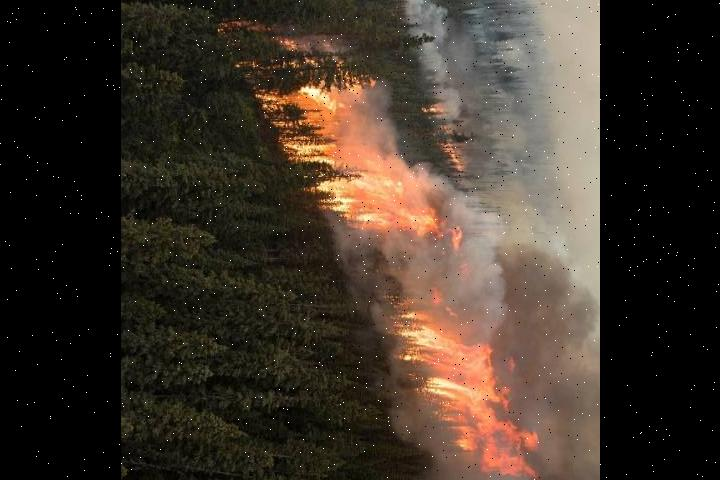fire: (231, 11, 540, 480)
